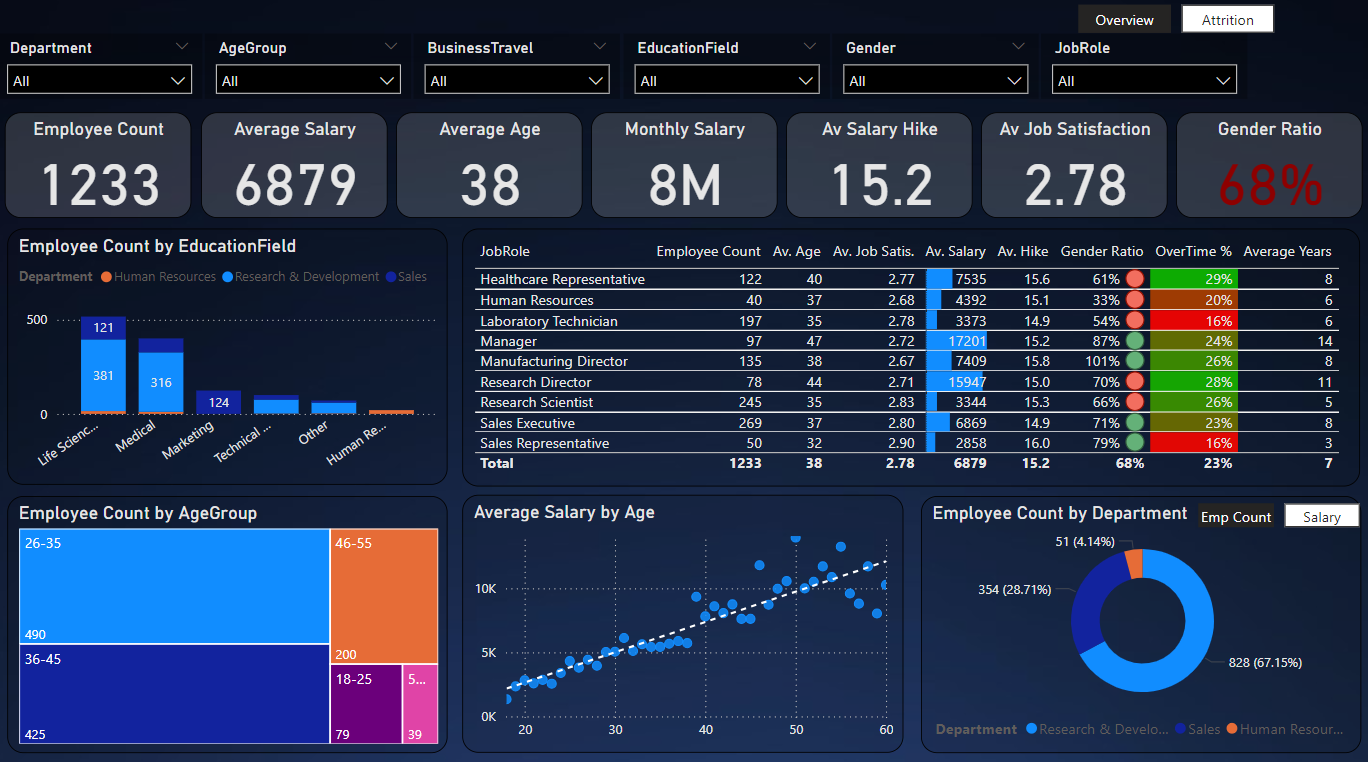

Layout of this report page (visuals, bound fields, positions):
{"tool":"powerbi","page":{"name":"Overview","canvas":[1280,720],"ordinal":0},"visuals":[{"type":"slicer","fields":{"Values":["HR_Analytics.Department"]},"box":[0,39,192,60.7],"z":0},{"type":"card","title":"Employee Count","fields":{"Values":["HR_Analytics.Employee Count"]},"box":[8.7,112.7,173.4,98.2],"z":1000},{"type":"slicer","fields":{"Values":["HR_Analytics.AgeGroup"]},"box":[194.3,39,192.1,60.7],"z":2000},{"type":"slicer","fields":{"Values":["HR_Analytics.BusinessTravel"]},"box":[388.8,39,192.1,60.7],"z":3000},{"type":"slicer","fields":{"Values":["HR_Analytics.EducationField"]},"box":[583.3,39,192.1,60.7],"z":4000},{"type":"slicer","fields":{"Values":["HR_Analytics.Gender"]},"box":[777.8,39,192.1,60.7],"z":5000},{"type":"slicer","fields":{"Values":["HR_Analytics.JobRole"]},"box":[972.3,39,192.1,60.7],"z":6000},{"type":"card","title":"Gender Ratio","fields":{"Values":["HR_Analytics.Gender Ratio"]},"box":[1098,112.7,173.4,98.2],"z":7000},{"type":"card","title":"Average Age","fields":{"Values":["HR_Analytics.Average Age"]},"box":[371.8,112.7,173.4,98.2],"z":8000},{"type":"card","title":"Av Salary Hike","fields":{"Values":["HR_Analytics.Average Salary Hike"]},"box":[734.9,112.7,173.4,98.2],"z":9000},{"type":"card","title":"Average Salary","fields":{"Values":["HR_Analytics.Average Salary"]},"box":[190.2,112.7,173.4,98.2],"z":10000},{"type":"card","title":"Monthly Salary","fields":{"Values":["HR_Analytics.Monthly Salary"]},"box":[553.3,112.7,173.4,98.2],"z":11000},{"type":"card","title":"Av Job Satisfaction","fields":{"Values":["HR_Analytics.Average Job Satisfaction"]},"box":[916.4,112.7,173.4,98.2],"z":12000},{"type":"columnChart","title":"Employee Count by EducationField","fields":{"Category":["HR_Analytics.EducationField"],"Y":["HR_Analytics.Employee Count"],"Series":["HR_Analytics.Department"]},"box":[10.5,221.2,409.7,238.3],"z":13000},{"type":"treemap","fields":{"Values":["HR_Analytics.Employee Count"],"Group":["HR_Analytics.AgeGroup"]},"box":[10.5,469.3,409.7,239.6],"z":14000},{"type":"donutChart","fields":{"Y":["HR_Analytics.Employee Count"],"Category":["HR_Analytics.Department"]},"box":[860.3,469.3,409.7,239.6],"z":15000},{"type":"tableEx","fields":{"Values":["HR_Analytics.JobRole","HR_Analytics.Employee Count","HR_Analytics.Average Age","HR_Analytics.Average Job Satisfaction","HR_Analytics.Average Salary","HR_Analytics.Average Salary Hike","HR_Analytics.Gender Ratio","HR_Analytics.OverTime %","HR_Analytics.Average Years"]},"box":[433.9,220.4,835,239.8],"z":16000},{"type":"scatterChart","fields":{"X":["HR_Analytics.Age"],"Y":["HR_Analytics.Average Salary"]},"box":[433.4,468.9,410,240],"z":17000},{"type":"pageNavigator","box":[1006.8,12.7,183.1,26.8],"z":18000},{"type":"bookmarkNavigator","box":[1118.2,477.3,150.9,22.7],"z":20000}]}

Visuals, with their boxes in screenshot pixels (x1, y1, x2, y2), scaled from the page's 1280x720 canvas onto the 1368x762 screenshot:
slicer - HR_Analytics.Department: bbox(0, 41, 205, 106)
"Employee Count" card: bbox(9, 119, 195, 223)
slicer - HR_Analytics.AgeGroup: bbox(208, 41, 413, 106)
slicer - HR_Analytics.BusinessTravel: bbox(416, 41, 621, 106)
slicer - HR_Analytics.EducationField: bbox(623, 41, 829, 106)
slicer - HR_Analytics.Gender: bbox(831, 41, 1037, 106)
slicer - HR_Analytics.JobRole: bbox(1039, 41, 1244, 106)
"Gender Ratio" card: bbox(1173, 119, 1359, 223)
"Average Age" card: bbox(397, 119, 583, 223)
"Av Salary Hike" card: bbox(785, 119, 971, 223)
"Average Salary" card: bbox(203, 119, 389, 223)
"Monthly Salary" card: bbox(591, 119, 777, 223)
"Av Job Satisfaction" card: bbox(979, 119, 1165, 223)
"Employee Count by EducationField" columnChart: bbox(11, 234, 449, 486)
treemap - HR_Analytics.Employee Count x HR_Analytics.AgeGroup: bbox(11, 497, 449, 750)
donutChart - HR_Analytics.Employee Count x HR_Analytics.Department: bbox(919, 497, 1357, 750)
tableEx - HR_Analytics.JobRole x HR_Analytics.Employee Count: bbox(464, 233, 1356, 487)
scatterChart - HR_Analytics.Age x HR_Analytics.Average Salary: bbox(463, 496, 901, 750)
pageNavigator: bbox(1076, 13, 1272, 42)
bookmarkNavigator: bbox(1195, 505, 1356, 529)
